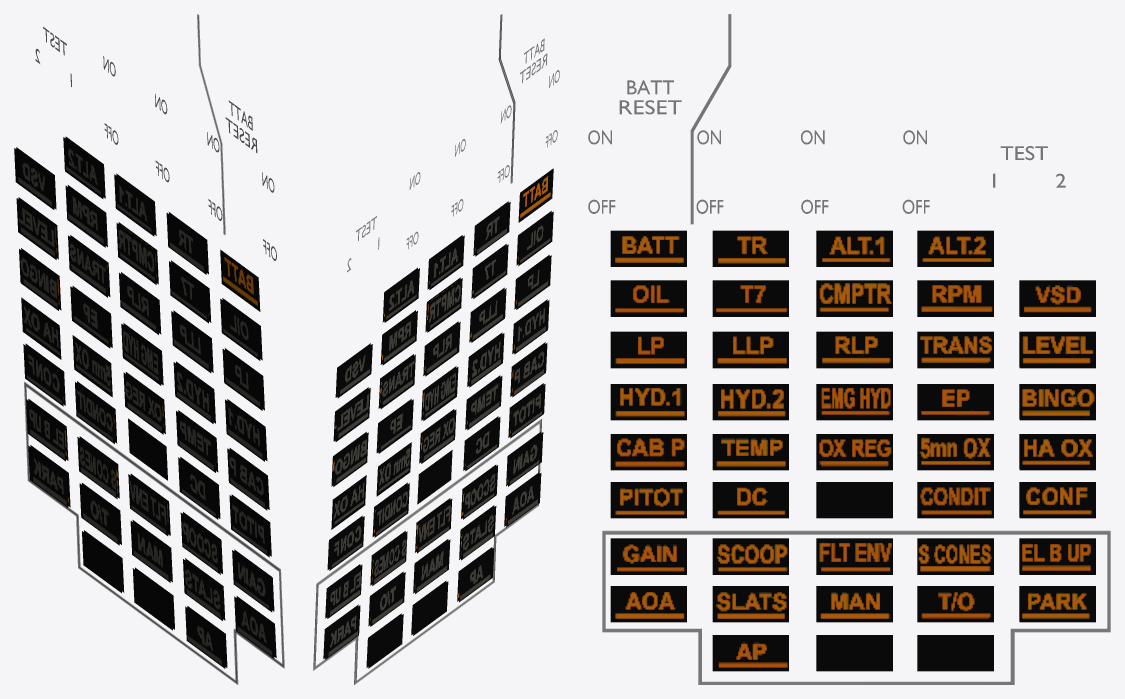
Rendered from failures.fbx.
The picture shows the model from 3 angles, left to right: view 1: azimuth 30°, elevation 25°; view 2: azimuth 150°, elevation 25°; view 3: azimuth 270°, elevation 25°; orthographic projection. The views are drawn at different scales.
Visible parts, largest first — view 1: failures.failures, failures.traits, failures.ambreA1, failures.ambreC6; view 2: failures.failures, failures.traits, failures.ambreC6, failures.ambreA1; view 3: failures.traits, failures.failures, failures.ambreC3, failures.ambreD3, failures.ambreA3, failures.ambreB3, failures.ambreE3, failures.ambreA2, failures.ambreA7, failures.ambreB2, failures.ambreB7, failures.ambreC1 (+32 smaller).
Part boxes in pixels (<box>): failures.failures: <box>14,137,274,668</box>; failures.traits: <box>24,14,284,684</box>; failures.ambreA1: <box>220,249,260,311</box>; failures.ambreC6: <box>128,418,167,480</box>; failures.failures: <box>325,202,553,668</box>; failures.traits: <box>313,14,559,684</box>; failures.ambreC6: <box>417,450,452,504</box>; failures.ambreA1: <box>518,168,553,222</box>; failures.traits: <box>588,14,1110,684</box>; failures.failures: <box>610,230,1095,635</box>; failures.ambreC3: <box>816,332,892,368</box>; failures.ambreD3: <box>917,332,993,368</box>; failures.ambreA3: <box>610,332,686,368</box>; failures.ambreB3: <box>712,332,788,368</box>; failures.ambreE3: <box>1019,332,1095,368</box>; failures.ambreA2: <box>610,281,686,316</box>; failures.ambreA7: <box>610,539,686,574</box>; failures.ambreB2: <box>712,281,788,316</box>; failures.ambreB7: <box>712,539,788,574</box>; failures.ambreC1: <box>816,231,892,266</box>.
Bounding box in the file's own units: 0.4599 × 8.05 × 11.2.
